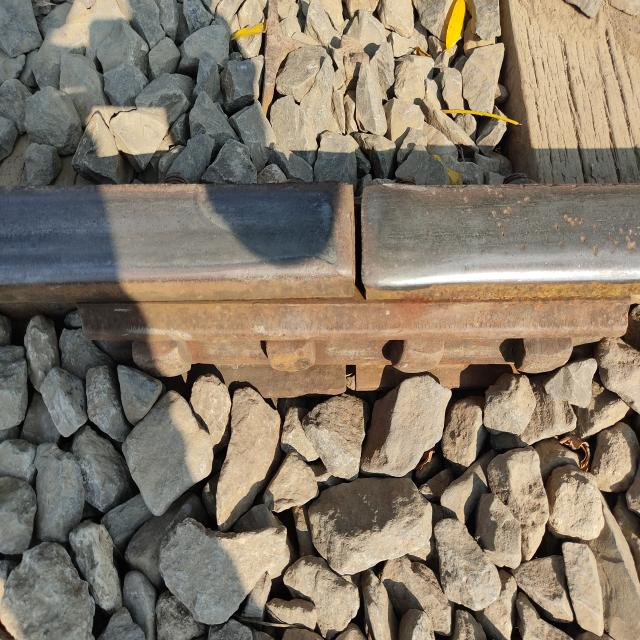defective: (197, 160, 576, 411)
